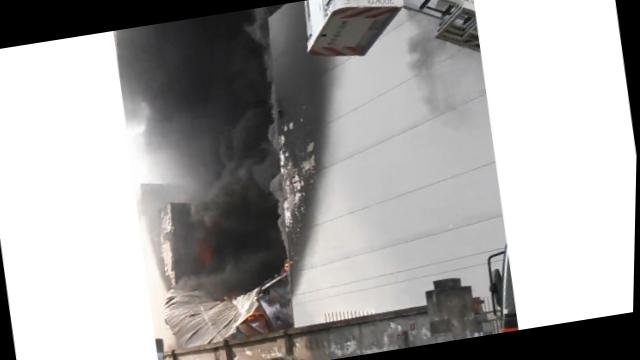smoke: (118, 18, 217, 135), (206, 102, 285, 218)
